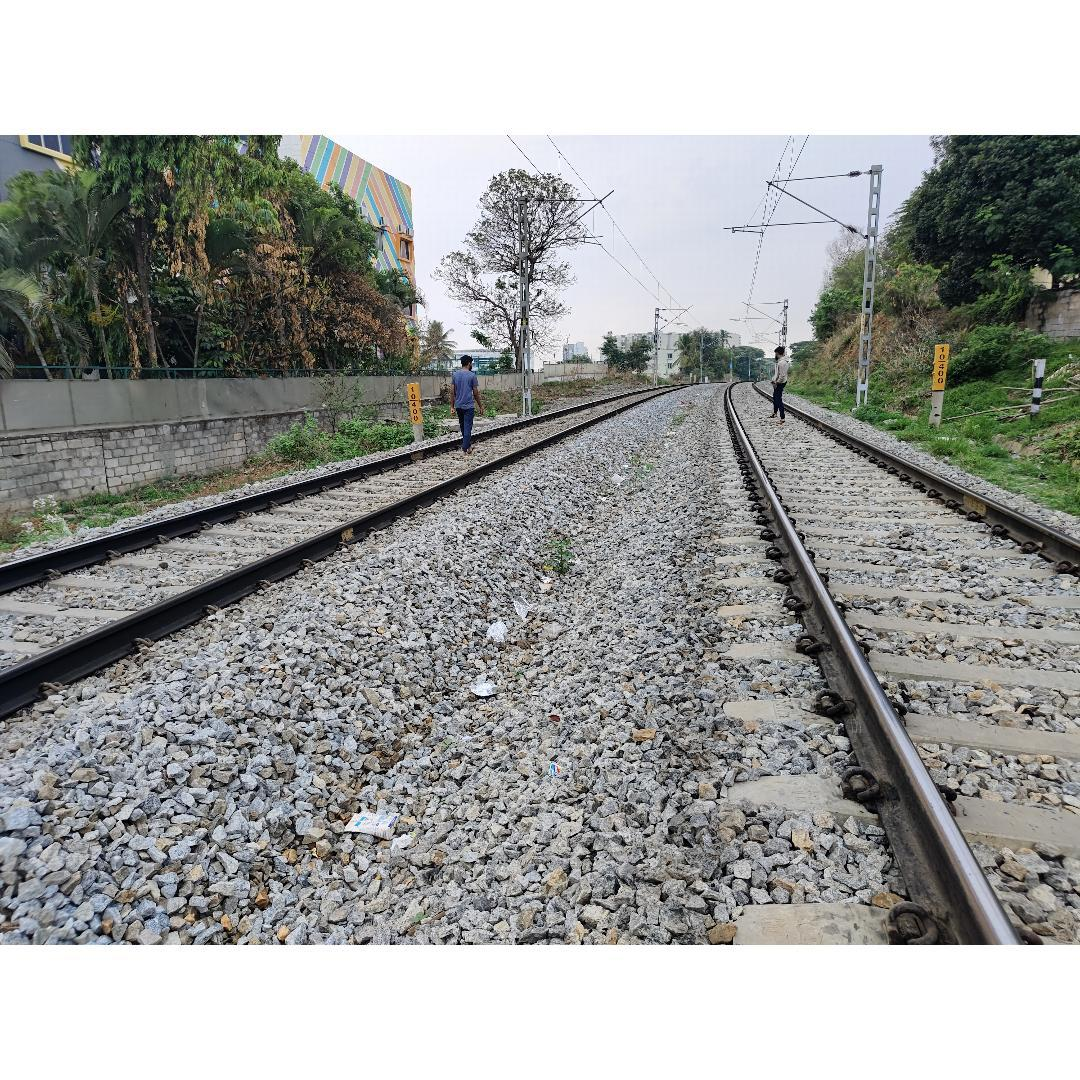standing: (448, 354, 484, 454), (768, 346, 790, 424)
track: (0, 380, 728, 741), (716, 376, 1080, 945)
